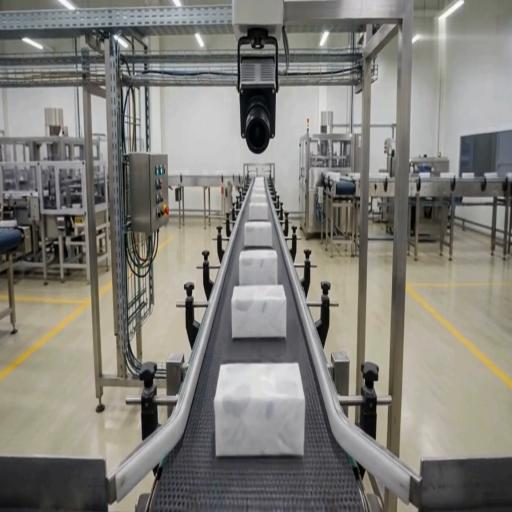good: (214, 361, 304, 458), (230, 284, 288, 340), (238, 248, 278, 286), (243, 220, 275, 249), (248, 199, 270, 222), (248, 183, 269, 202)
